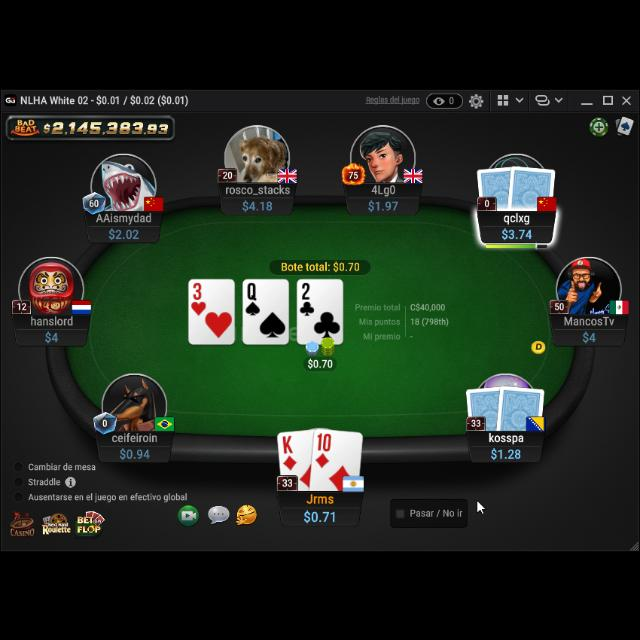2c: (298, 278, 316, 316)
3h: (190, 280, 208, 314)
Kd: (281, 432, 299, 470)
Qs: (244, 280, 262, 316)
Td: (314, 430, 334, 468)
bet_text: (306, 355, 334, 369)
card_back: (507, 161, 558, 211), (496, 380, 546, 430), (475, 162, 519, 210), (464, 382, 506, 428)
dealer: (529, 338, 549, 356)
pot_text: (281, 258, 361, 270)
stack_text: (302, 508, 338, 524), (500, 226, 534, 240), (366, 198, 399, 212), (120, 446, 152, 460), (107, 226, 139, 240), (242, 196, 274, 210), (490, 446, 522, 460), (582, 329, 596, 343), (44, 331, 60, 343)
